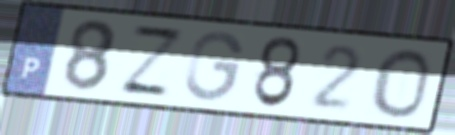2: (306, 42, 368, 113)
8: (59, 17, 118, 94), (250, 34, 304, 110)
G: (182, 29, 247, 104)
O: (369, 46, 434, 120)
Z: (114, 22, 189, 100)
